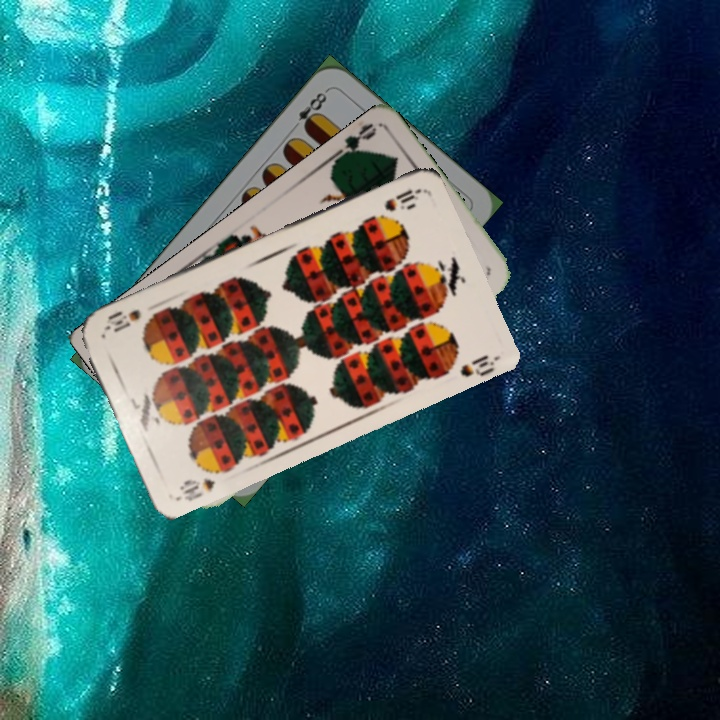E8: (287, 85, 331, 134)
GO: (325, 119, 379, 167)
S10: (174, 474, 218, 504), (380, 185, 422, 214)
